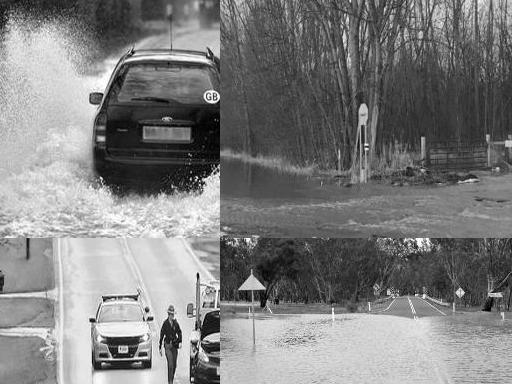road_waterlogging: (220, 307, 512, 384), (0, 24, 95, 238), (220, 179, 512, 238), (105, 190, 220, 238), (220, 148, 246, 174)
